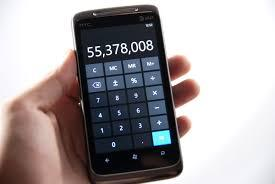Calculator: (79, 35, 179, 167)
